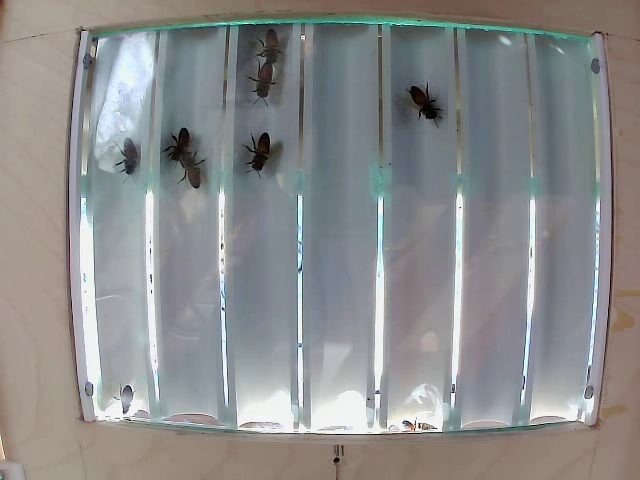bee: (398, 78, 441, 127), (246, 66, 289, 114), (109, 137, 146, 180), (255, 33, 295, 71), (163, 129, 203, 157), (250, 132, 277, 173), (173, 158, 208, 183)
